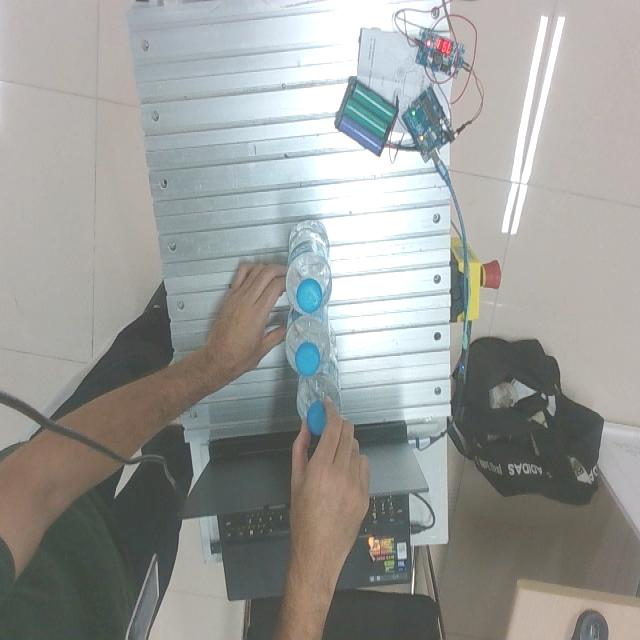lavie: (296, 325, 343, 432), (285, 221, 333, 319)
